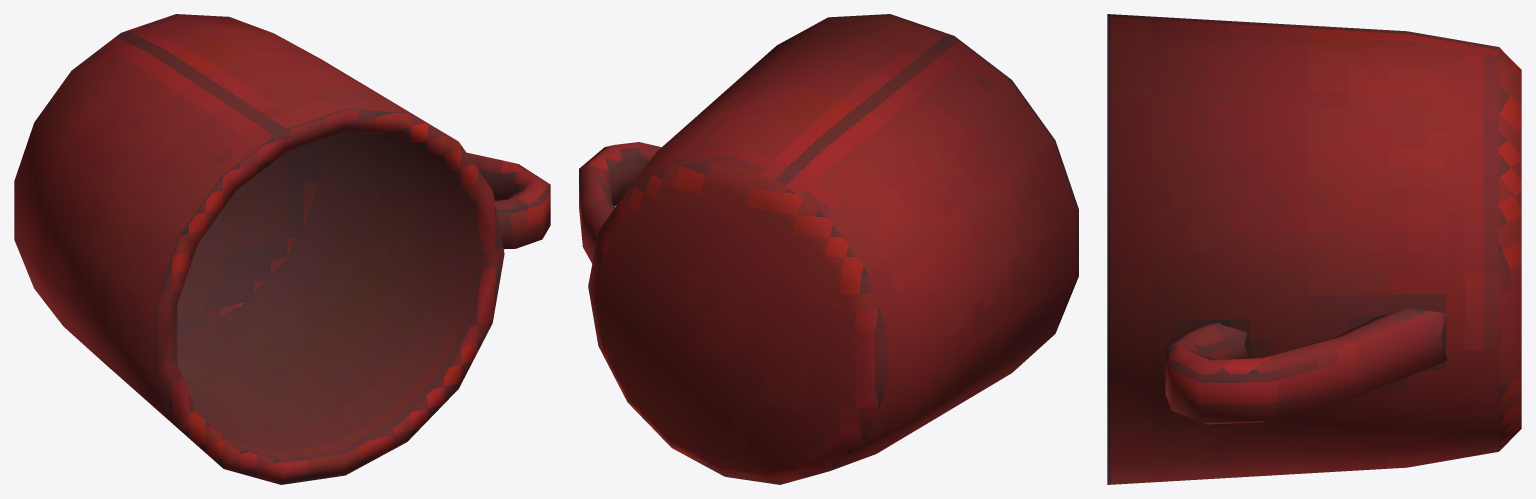
File: nt_2020_dish_mug_LOD0.obj
3 views of the same model, side by side, from view 1: azimuth 30°, elevation 25°; view 2: azimuth 150°, elevation 25°; view 3: azimuth 270°, elevation 25° (orthographic). The views are drawn at different scales.
Parts seen in each view (by area): view 1: mtl_nt_2020_dish_mug_01; view 2: mtl_nt_2020_dish_mug_01; view 3: mtl_nt_2020_dish_mug_01.
Boxes of the visible parts, bbox=[...] form: mtl_nt_2020_dish_mug_01: bbox=[14, 14, 550, 484]; mtl_nt_2020_dish_mug_01: bbox=[579, 14, 1078, 484]; mtl_nt_2020_dish_mug_01: bbox=[1107, 14, 1521, 484].
Size of the model in its own units: 12.73 by 10.24 by 8.98.
